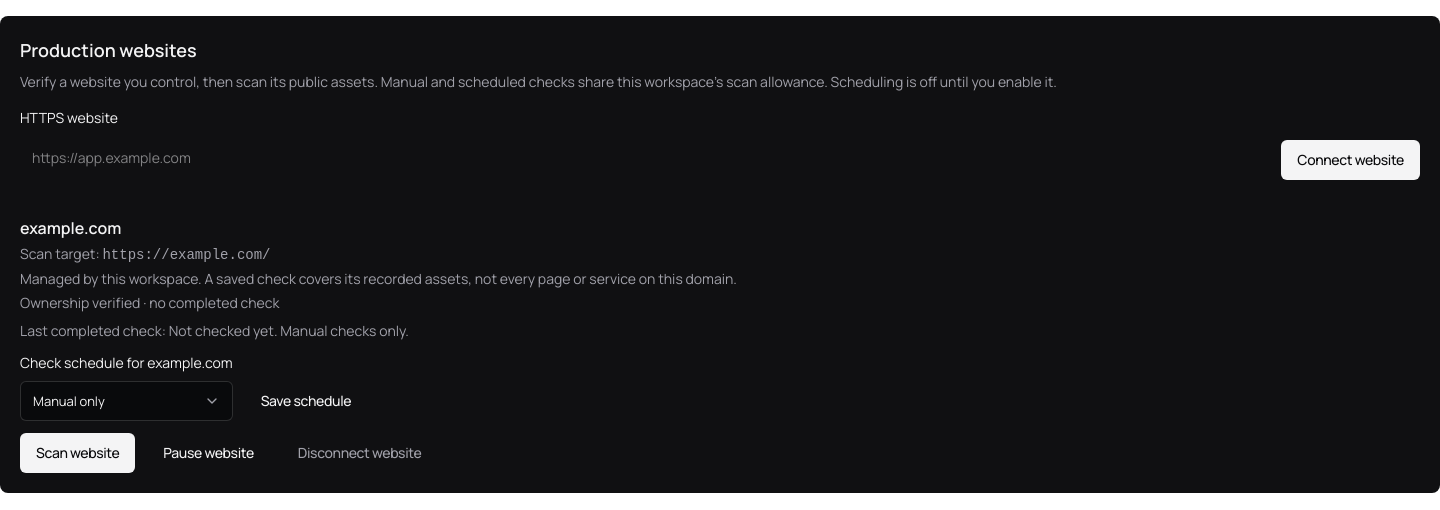
Test: does not restore stale inventory when an older poll finishes after denied mutation
The width and height of the screenshot is (1440, 510).
Click the button "Scan website" at coordinates (78, 453), box [20,433,135,473]
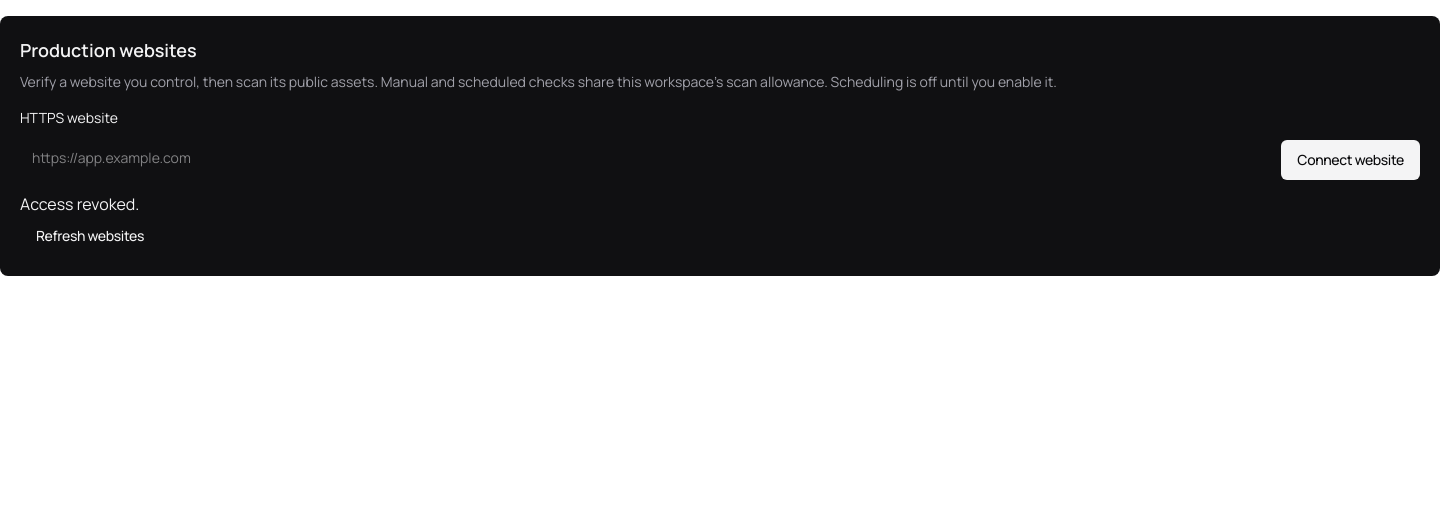
Now the button "Scan website" is gone
Now the message reads "Access revoked.", box [20,193,139,215]
